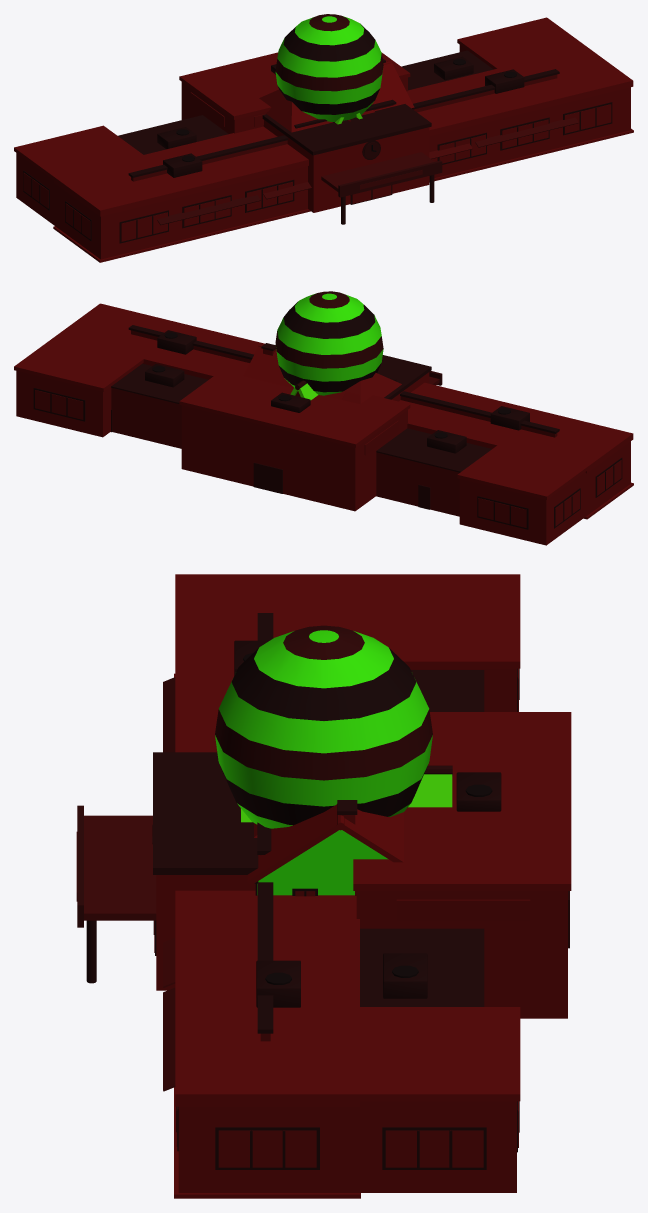
The picture shows the model from 3 angles, top to bottom: view 1: azimuth 30°, elevation 25°; view 2: azimuth 150°, elevation 25°; view 3: azimuth 270°, elevation 25°; orthographic projection. The views are drawn at different scales.
Visible parts, largest first — view 1: school_building, strip_mall, hot_air_balloon, house_c, house_e; view 2: school_building, strip_mall, hot_air_balloon, house_e, house_c; view 3: school_building, hot_air_balloon, strip_mall, house_e, house_b.
Part boxes in pixels (x1,y1,x2,y2): school_building: (14, 17, 633, 262); strip_mall: (118, 50, 578, 225); hot_air_balloon: (275, 14, 383, 122); house_c: (259, 89, 374, 132); house_e: (371, 58, 414, 111); school_building: (14, 303, 633, 545); strip_mall: (111, 325, 559, 516); hot_air_balloon: (275, 291, 383, 395); house_e: (243, 343, 345, 399); house_c: (342, 373, 401, 404); school_building: (76, 574, 571, 1198); hot_air_balloon: (215, 625, 432, 828); strip_mall: (163, 613, 484, 1091); house_e: (247, 800, 403, 896); house_b: (241, 765, 452, 822).
Size of what is drawn, in the model's own units: 55.4 by 15 by 22.23.
